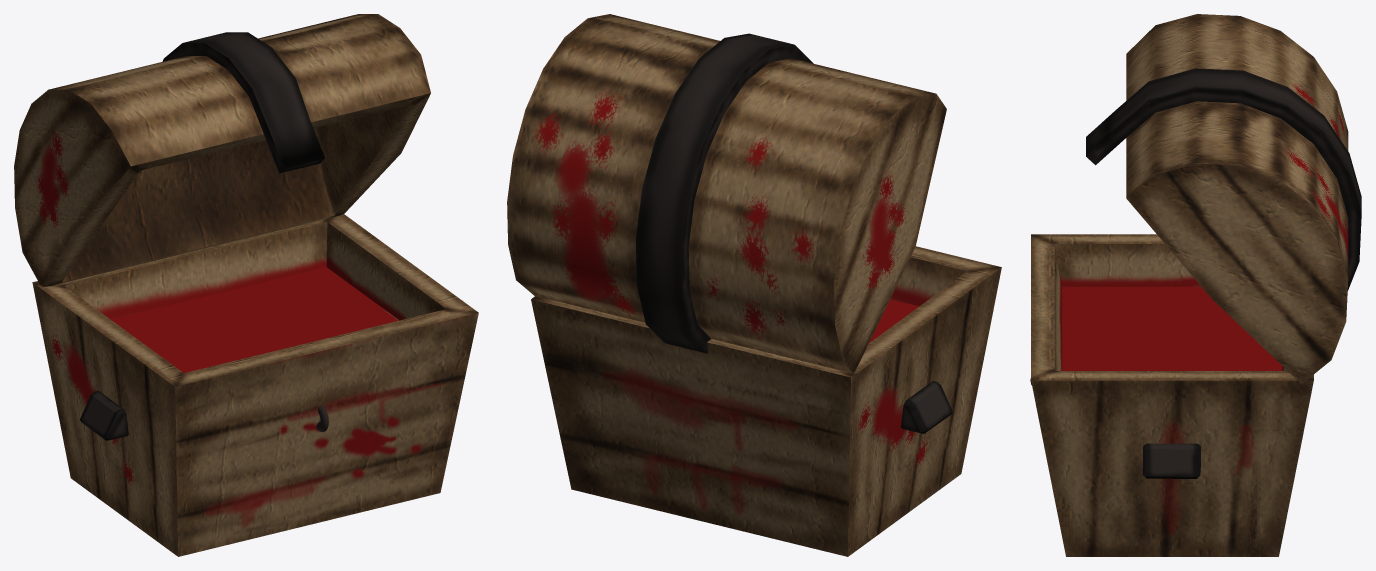
File: Frukt.fbx
The picture shows the model from 3 angles, left to right: view 1: azimuth 30°, elevation 25°; view 2: azimuth 150°, elevation 25°; view 3: azimuth 270°, elevation 25°; orthographic projection. The views are drawn at different scales.
Parts seen in each view (by area): view 1: persp2; view 2: persp2; view 3: persp2.
Boxes of the visible parts, x1,y1,x2,y2 form: persp2: [14, 14, 478, 556]; persp2: [507, 14, 1001, 556]; persp2: [1030, 14, 1361, 556].
Bounding box in the file's own units: 36.49 × 44.64 × 32.05.
1 material, 1 textured.
